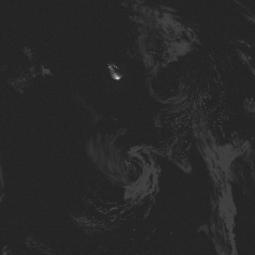debris: (104, 61, 130, 83)
